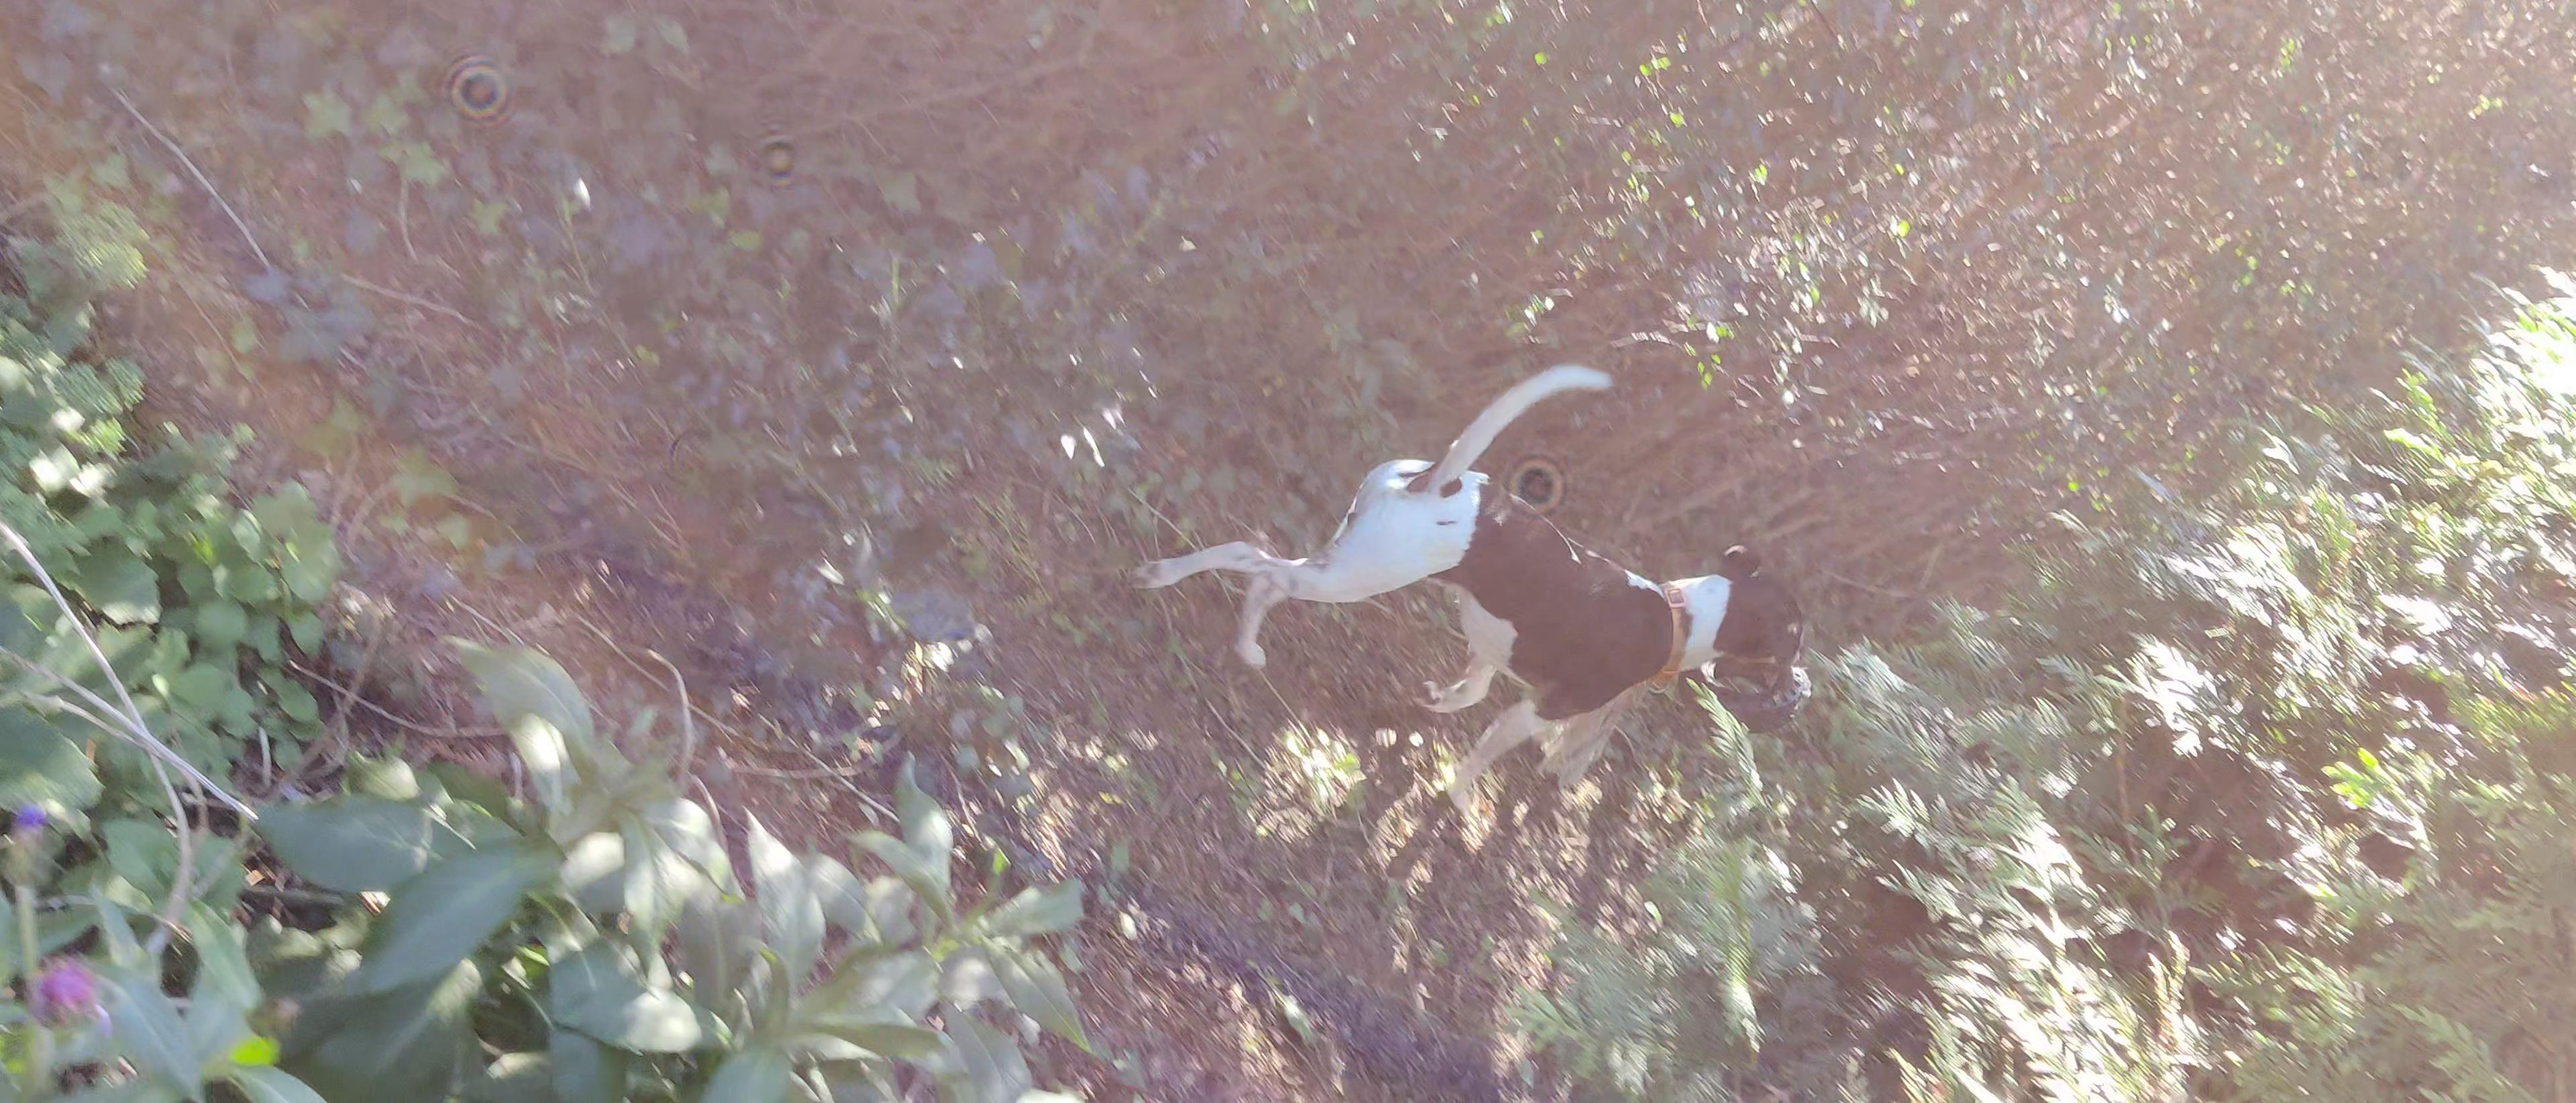Dog: (1120, 360, 1807, 815)
